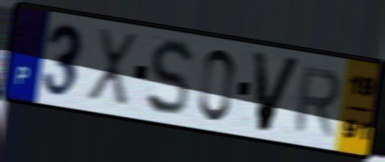0: (198, 47, 236, 123)
3: (39, 20, 91, 102)
R: (291, 64, 344, 139)
S: (144, 37, 195, 120)
V: (250, 48, 305, 135)
X: (84, 25, 140, 112)
